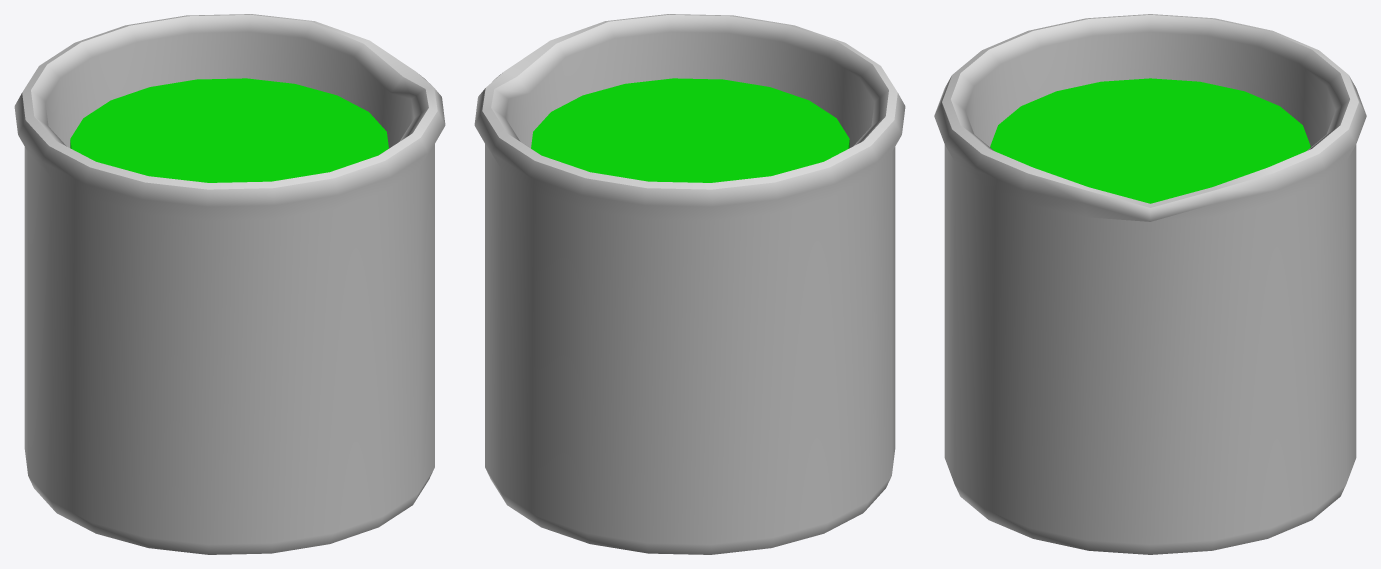
The model's file is beaker.fbx.
3 views of the same model, side by side, from view 1: azimuth 30°, elevation 25°; view 2: azimuth 150°, elevation 25°; view 3: azimuth 270°, elevation 25° (orthographic).
Parts seen in each view (by area): view 1: beaker_low, beakersubstance_low; view 2: beaker_low, beakersubstance_low; view 3: beaker_low, beakersubstance_low.
Boxes of the visible parts, bbox=[...] form: beaker_low: bbox=[14, 14, 445, 554]; beakersubstance_low: bbox=[70, 78, 388, 182]; beaker_low: bbox=[474, 14, 905, 554]; beakersubstance_low: bbox=[531, 78, 849, 182]; beaker_low: bbox=[934, 14, 1366, 554]; beakersubstance_low: bbox=[990, 78, 1310, 203].
Size of the model in its own units: 0.4164 by 0.3922 by 0.4083.
